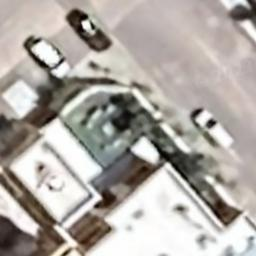van: (189, 105, 236, 153), (25, 34, 71, 82)
